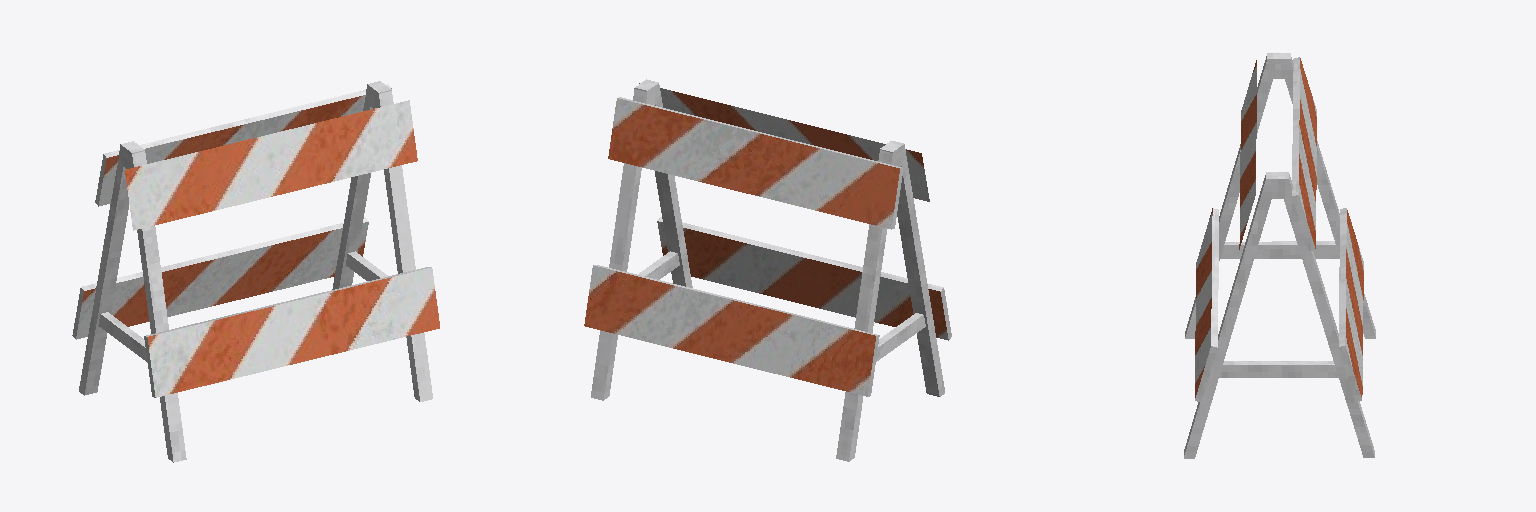
3 renders of one model, left to right at view 1: azimuth 30°, elevation 25°; view 2: azimuth 150°, elevation 25°; view 3: azimuth 270°, elevation 25°, orthographic.
Visible parts, largest first — view 1: A_Barricade_Traffic_lambert1_0.001; view 2: A_Barricade_Traffic_lambert1_0.001; view 3: A_Barricade_Traffic_lambert1_0.001.
Boxes of the visible parts, <box> form: A_Barricade_Traffic_lambert1_0.001: <box>72,81,439,462</box>; A_Barricade_Traffic_lambert1_0.001: <box>584,79,951,461</box>; A_Barricade_Traffic_lambert1_0.001: <box>1184,53,1375,458</box>.
Size of the model in its own units: 1.03 by 0.9642 by 0.6008.
Materials: 1 (1 with a texture image).